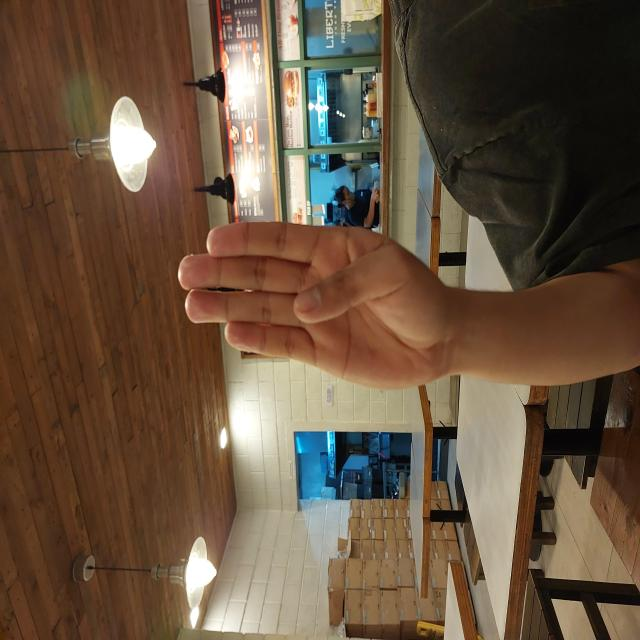B: (248, 176, 420, 459)
